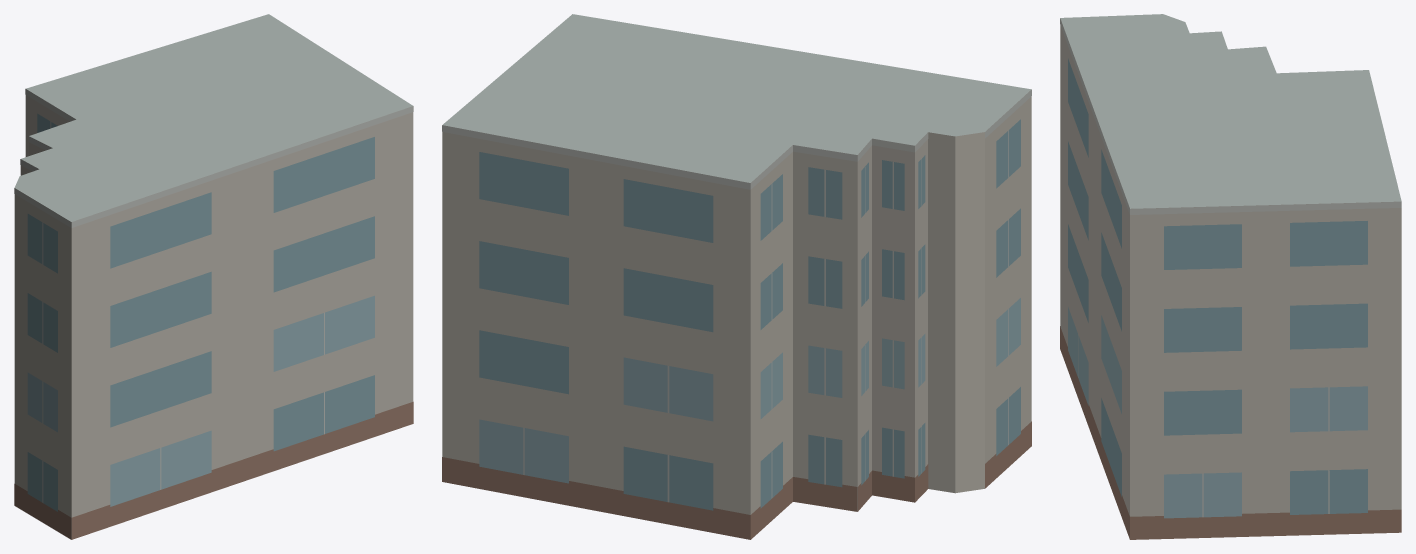
Rendered from survey-upis-32555858.glb.
3 renders of one model, left to right at view 1: azimuth 30°, elevation 25°; view 2: azimuth 150°, elevation 25°; view 3: azimuth 270°, elevation 25°, orthographic. The views are drawn at different scales.
Visible parts, largest first — view 1: survey-upis-32555858.tmp; view 2: survey-upis-32555858.tmp; view 3: survey-upis-32555858.tmp.
Boxes of the visible parts, <box> form: survey-upis-32555858.tmp: <box>14,14,413,539</box>; survey-upis-32555858.tmp: <box>442,14,1031,539</box>; survey-upis-32555858.tmp: <box>1060,14,1401,539</box>.
Bounding box in the file's own units: 16.29 × 12.9 × 12.07.
